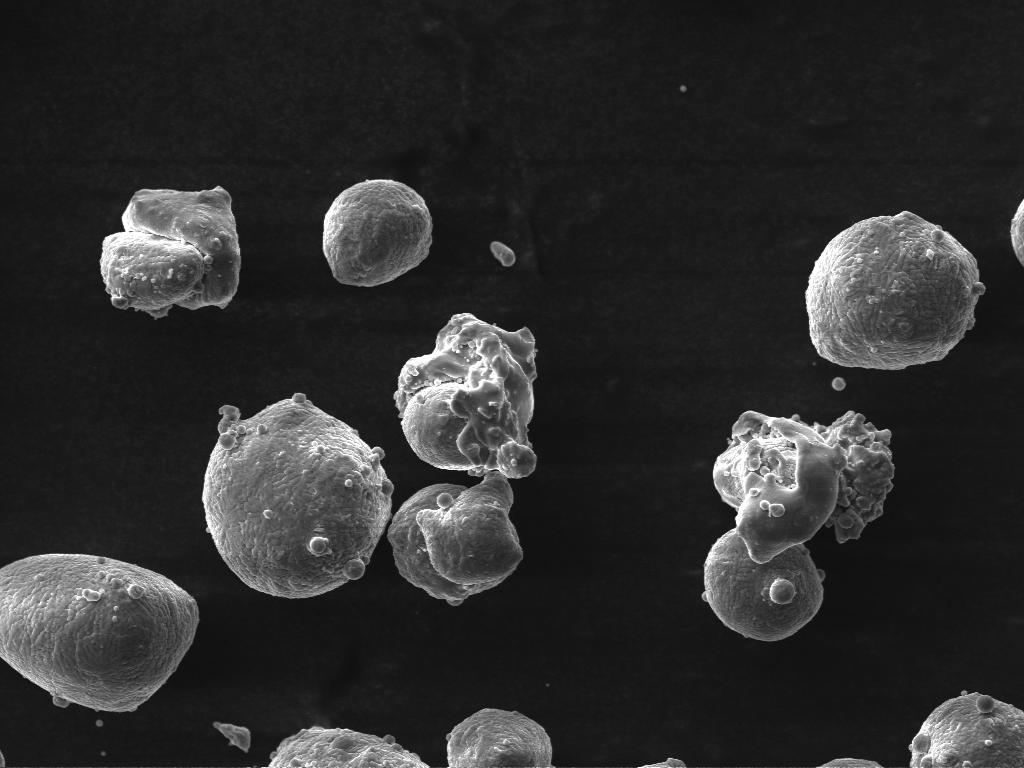Powder: (202, 394, 392, 598), (0, 554, 198, 711), (806, 212, 984, 369), (714, 412, 894, 563), (396, 314, 536, 478), (388, 472, 522, 605), (100, 188, 238, 317), (702, 530, 824, 641), (324, 180, 432, 286), (910, 692, 1024, 767), (270, 726, 428, 768), (446, 708, 552, 768), (214, 723, 250, 751), (490, 242, 516, 266)
